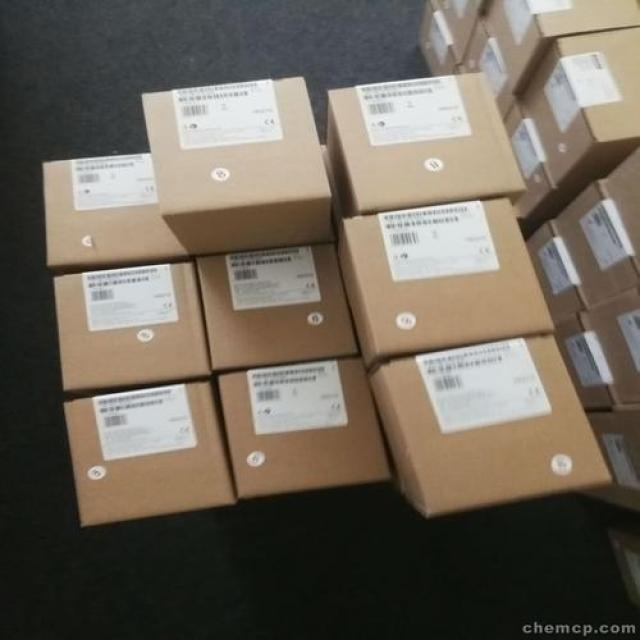box: (367, 331, 613, 518), (337, 196, 556, 375), (141, 77, 335, 259), (324, 70, 527, 215), (64, 376, 237, 533), (213, 357, 390, 497), (51, 260, 212, 401), (193, 244, 359, 372), (523, 26, 639, 201), (43, 152, 190, 277), (481, 1, 639, 94), (559, 175, 639, 302), (505, 89, 571, 240), (552, 303, 625, 414), (574, 398, 639, 512), (527, 211, 590, 324), (461, 13, 519, 125), (591, 284, 639, 402), (603, 145, 639, 264), (415, 3, 466, 75), (611, 511, 638, 617), (439, 1, 483, 65)
